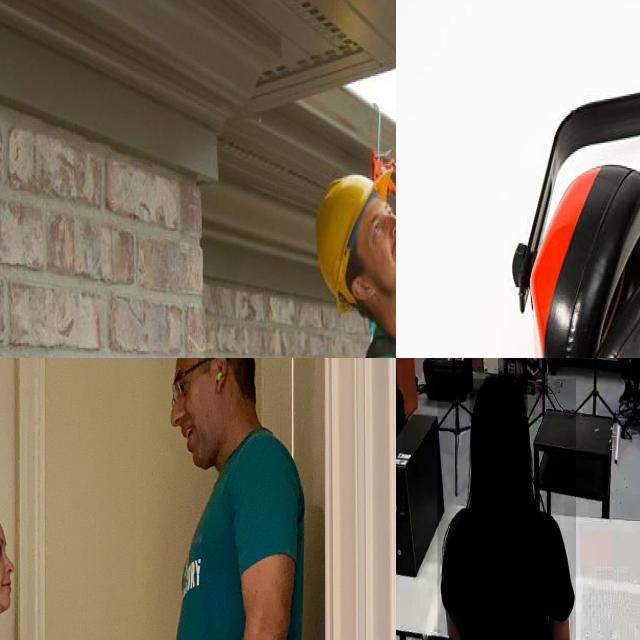Ear-protection: (502, 70, 640, 358)
No_Ear-Protection: (343, 269, 381, 312)
No_Glasses: (362, 210, 387, 247), (0, 530, 14, 567)
head_nohelmet: (470, 373, 528, 423)
person: (437, 378, 576, 640), (498, 358, 548, 393)
shoes: (524, 358, 539, 378)
